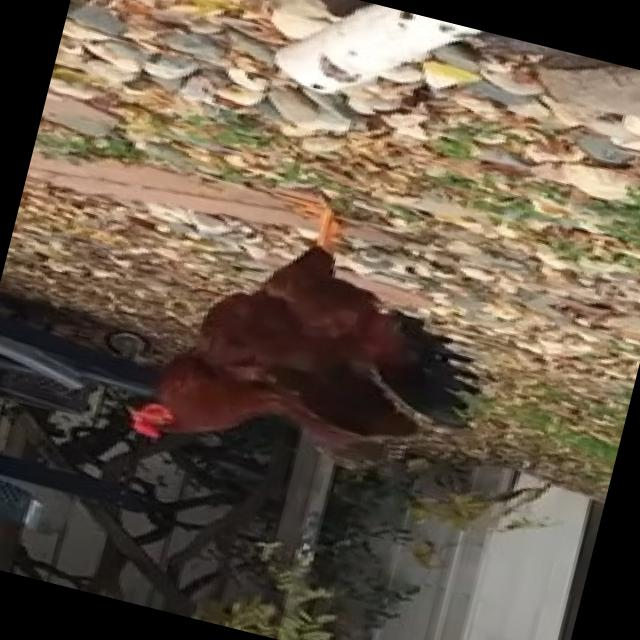wing flap: (75, 145, 520, 531)
